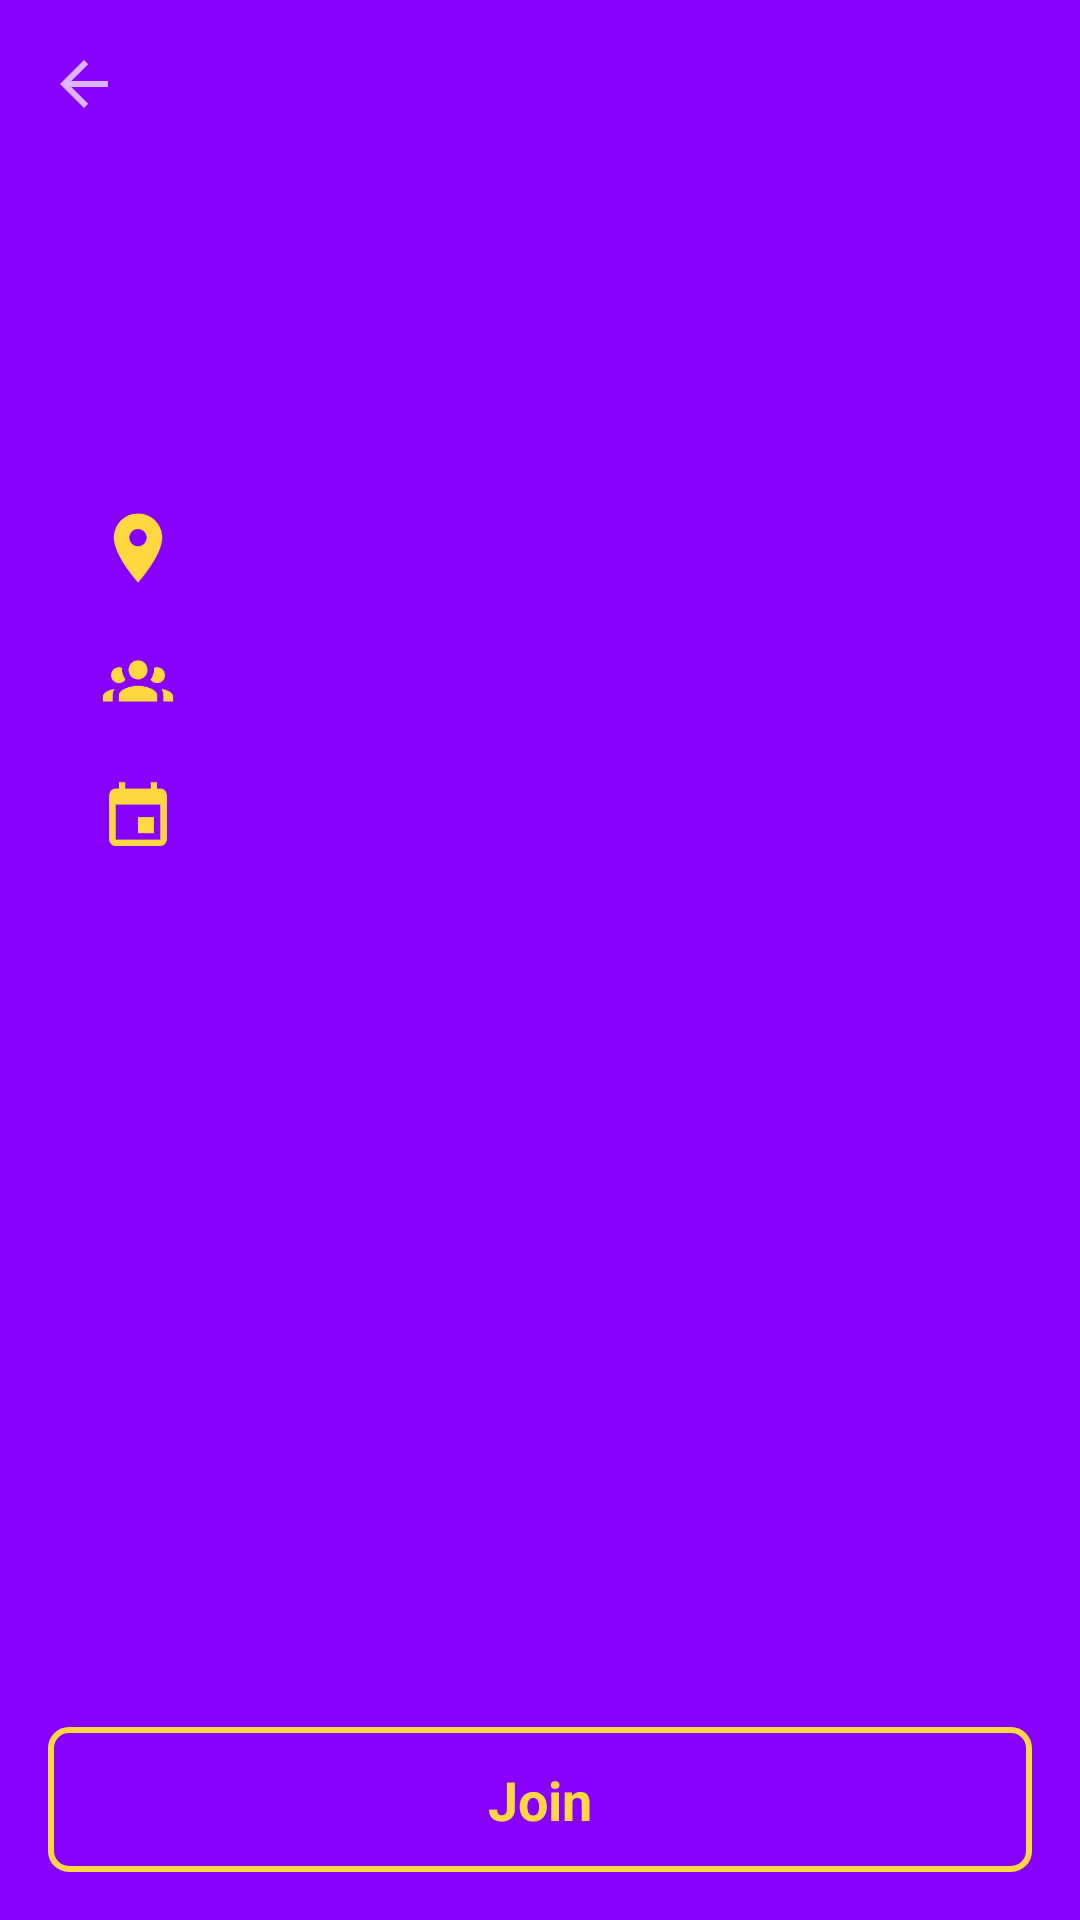

Where icons sit on this 1080px×1920px app screen, as (x1, y1, x2, y2):
calendar: (109, 782, 167, 846)
marker: (113, 513, 163, 583)
people: (103, 660, 173, 702)
